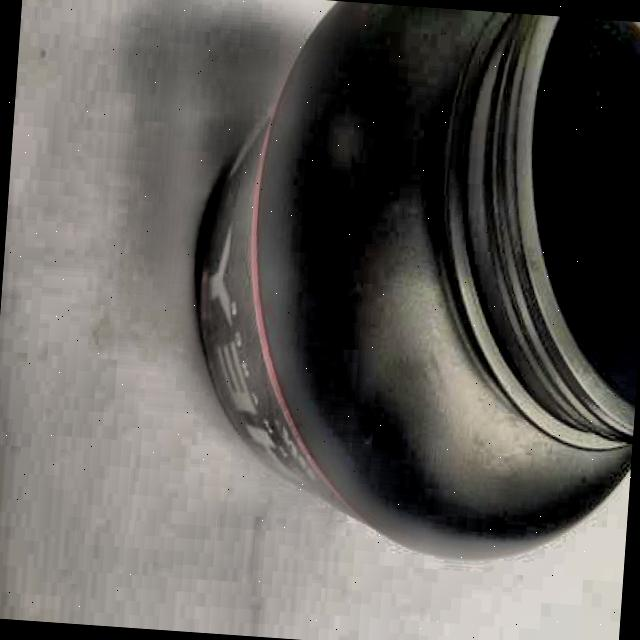plastic: (177, 0, 640, 566)
